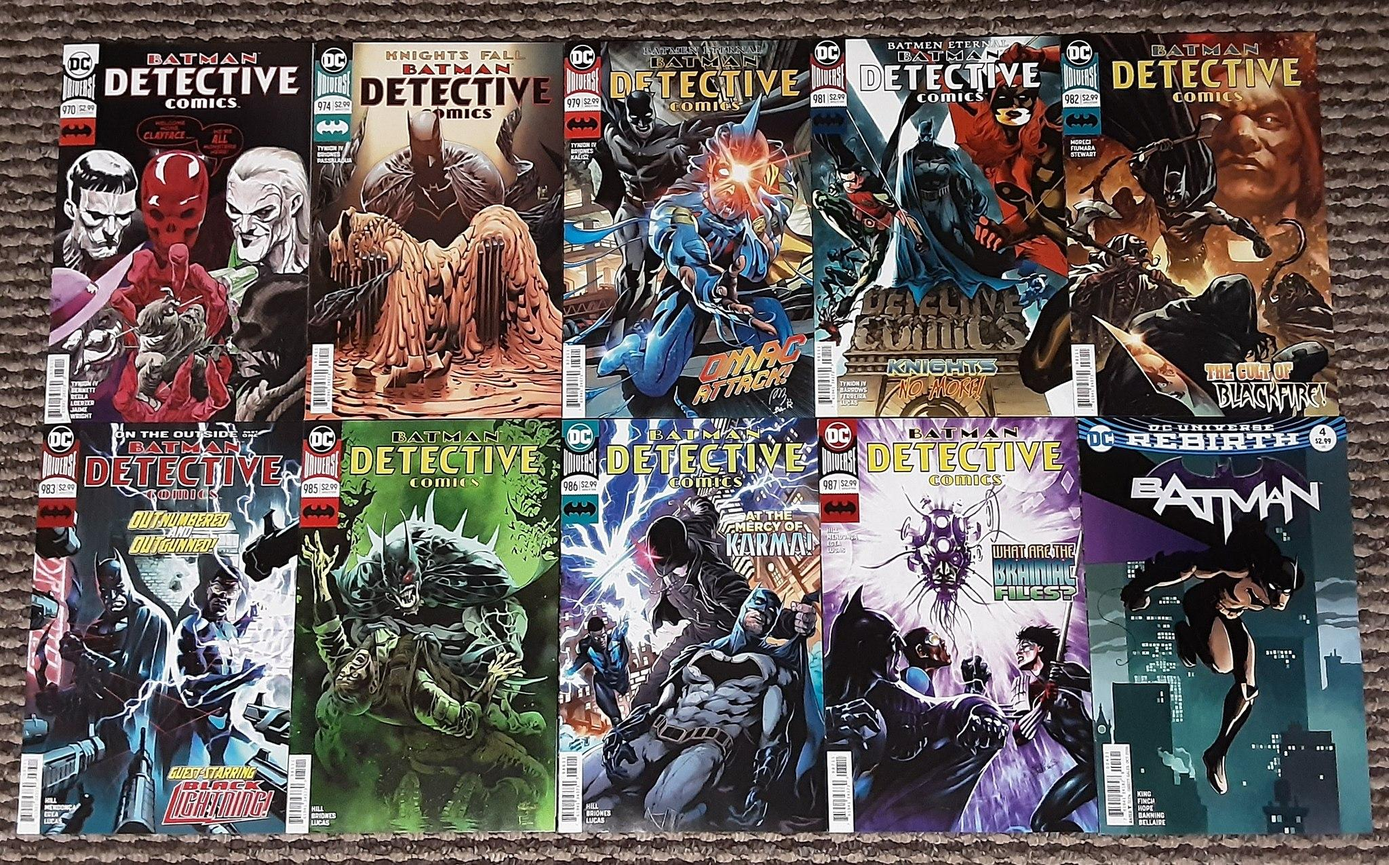comic: (1074, 401, 1372, 849), (17, 415, 302, 843), (820, 416, 1096, 836), (1056, 23, 1337, 429), (288, 416, 560, 835), (45, 32, 320, 434), (559, 419, 825, 831), (809, 36, 1072, 419), (307, 39, 564, 421), (564, 39, 814, 418)
